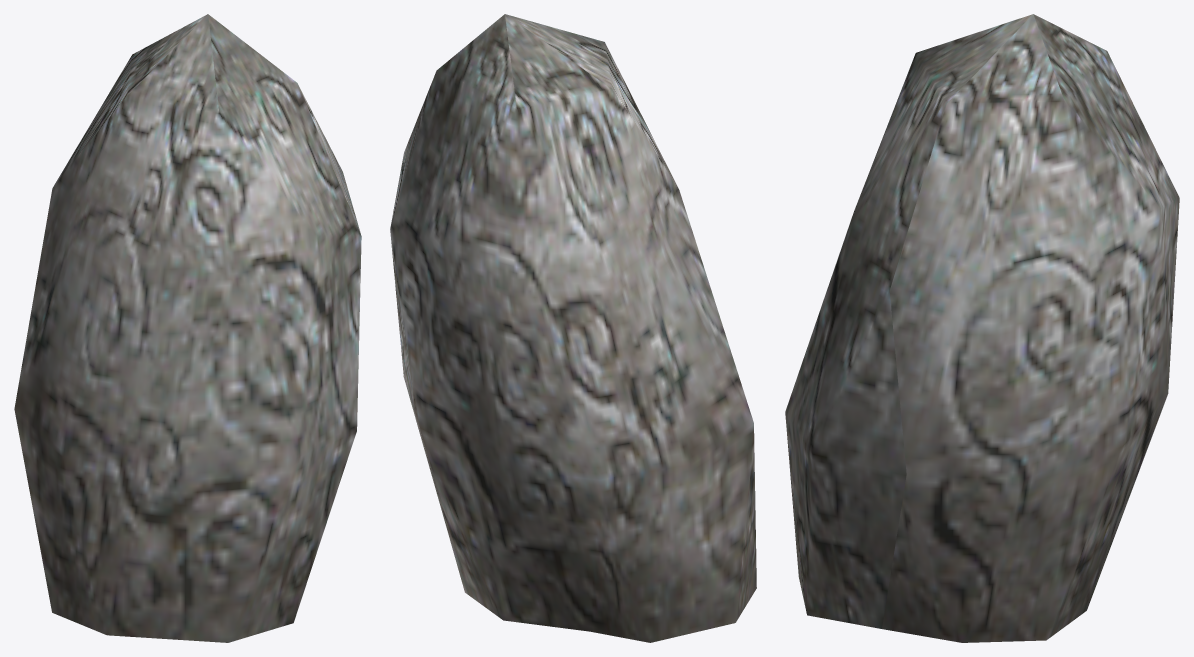
File: menhir_b.glb
3 views of the same model, side by side, from view 1: azimuth 30°, elevation 25°; view 2: azimuth 150°, elevation 25°; view 3: azimuth 270°, elevation 25° (orthographic). The views are drawn at different scales.
Parts seen in each view (by area): view 1: Modelo; view 2: Modelo; view 3: Modelo.
Part boxes in pixels (<box>): Modelo: <box>14,14,361,642</box>; Modelo: <box>390,14,756,642</box>; Modelo: <box>785,14,1179,642</box>.
Bounding box in the file's own units: 0.7982 × 1.35 × 0.7927.
1 material, 1 textured.
